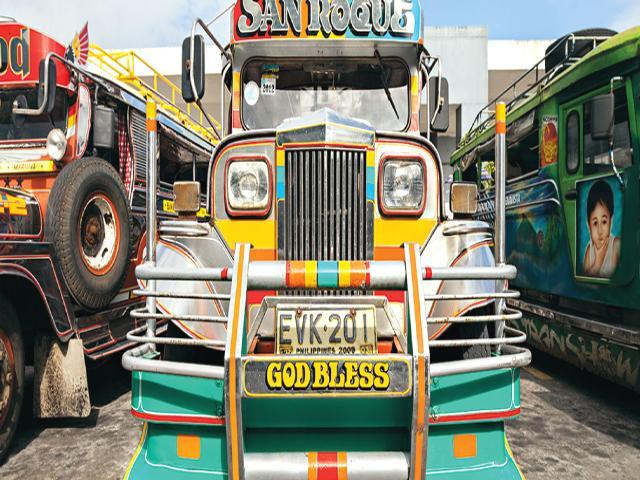jeepney: (170, 0, 535, 480), (6, 12, 228, 444), (445, 0, 640, 423)
